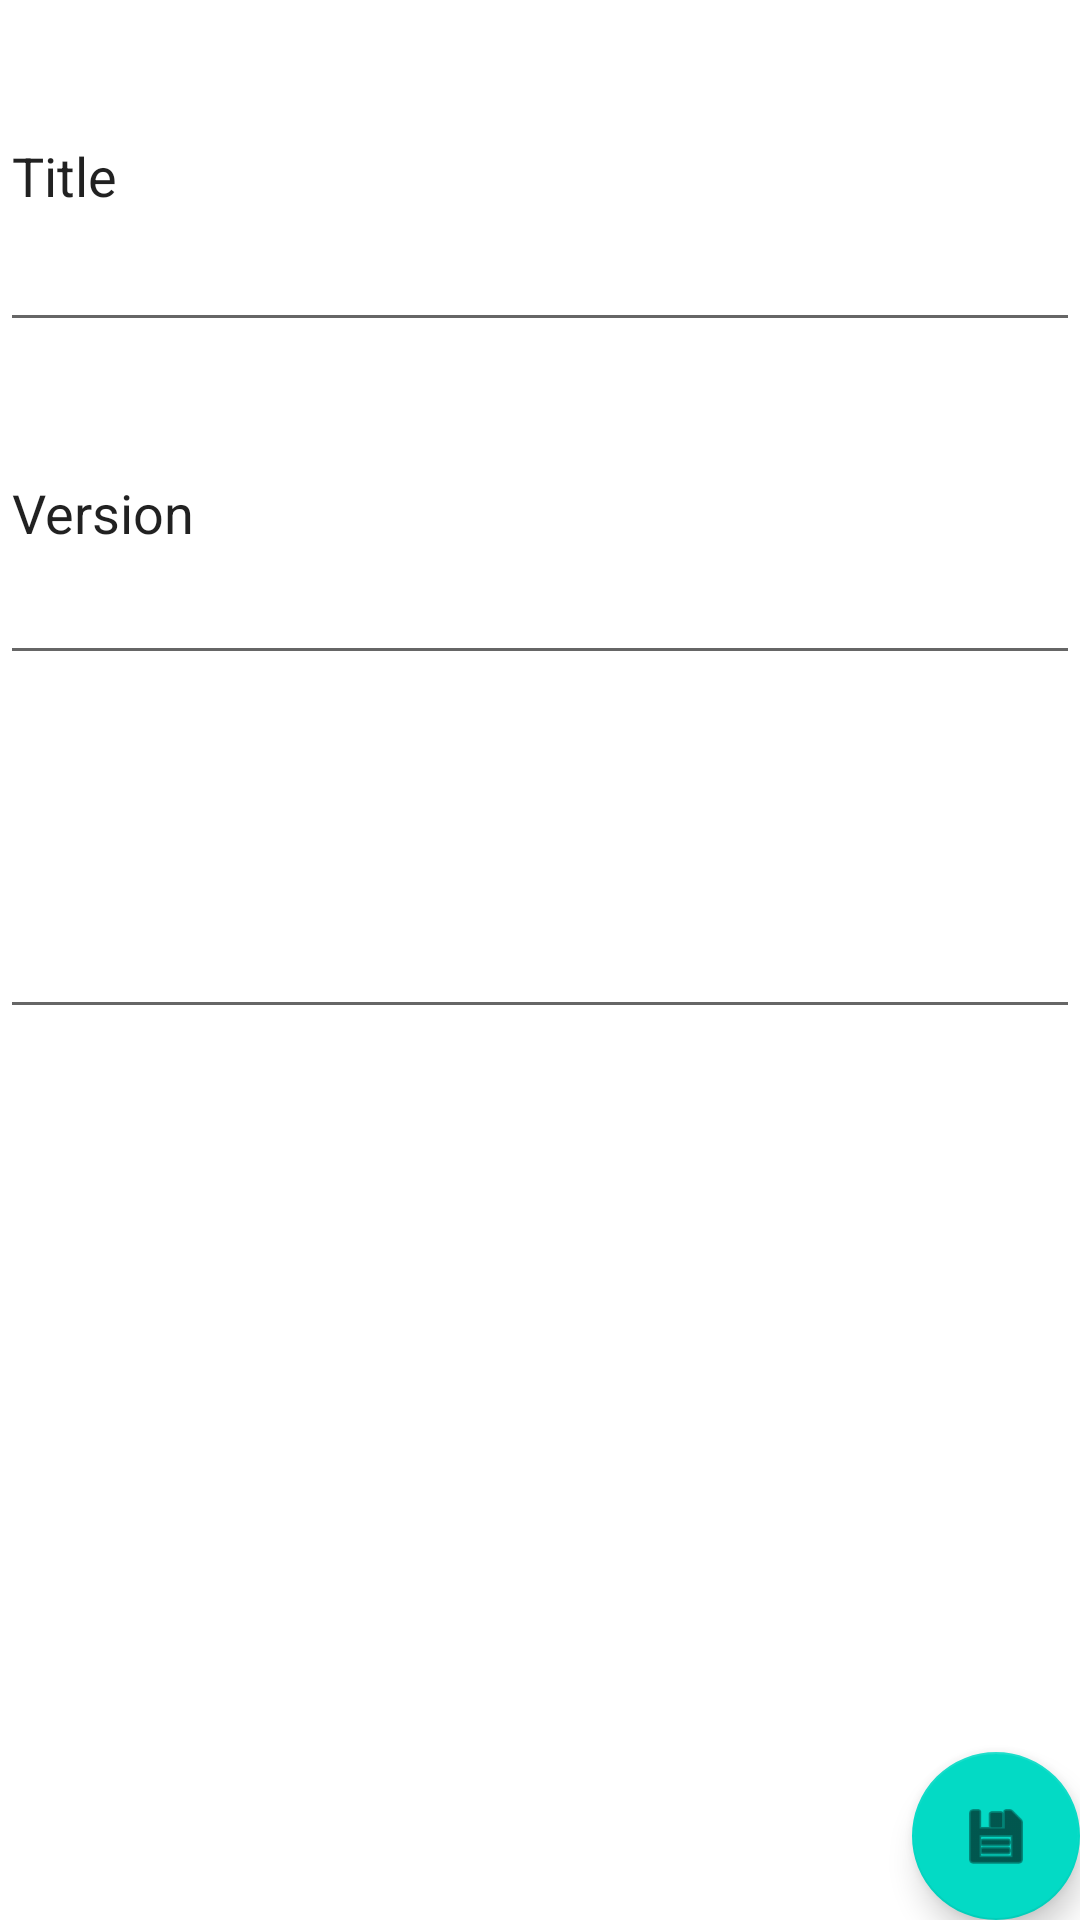

Named icons in this screenshot (1080px×1920px) and their centers, [x,y]:
save: [996,1836]
